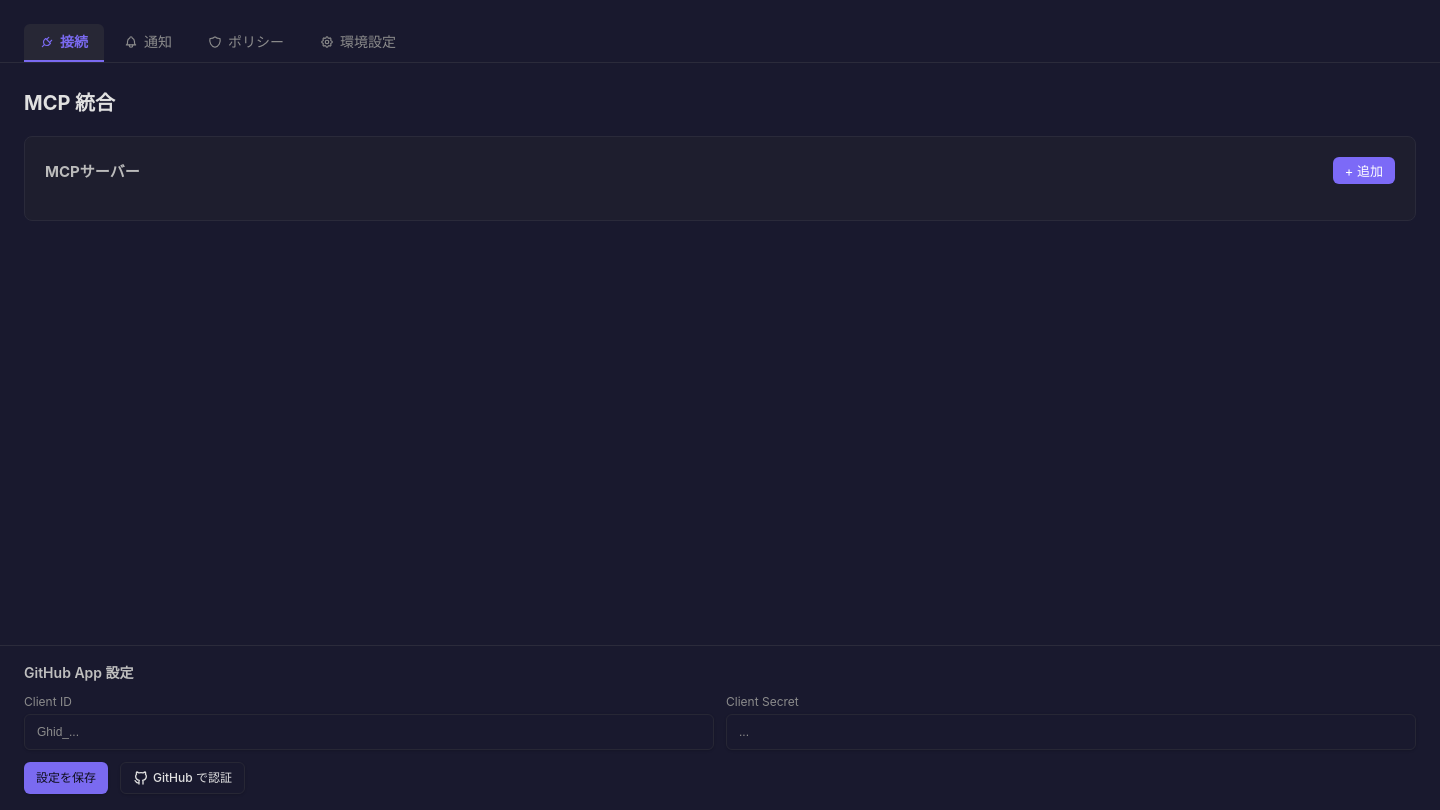
Test: SettingsScreen › 通知が許可済みの場合「通知が許可されています」が表示される
Click the button "通知": (148, 43) [108,24,188,62]
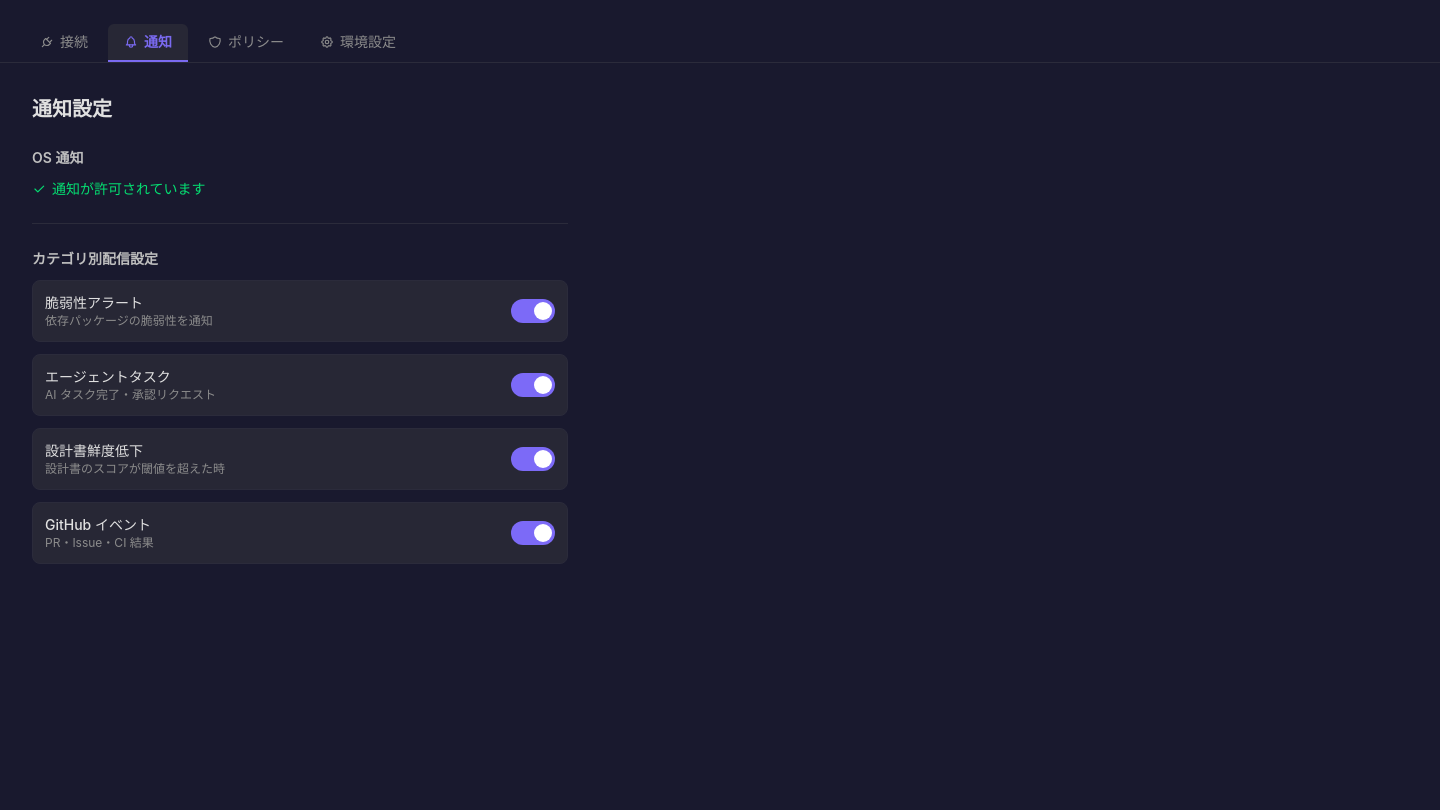
Result: the text "通知が許可されています" is shown at [32,180,206,197]
